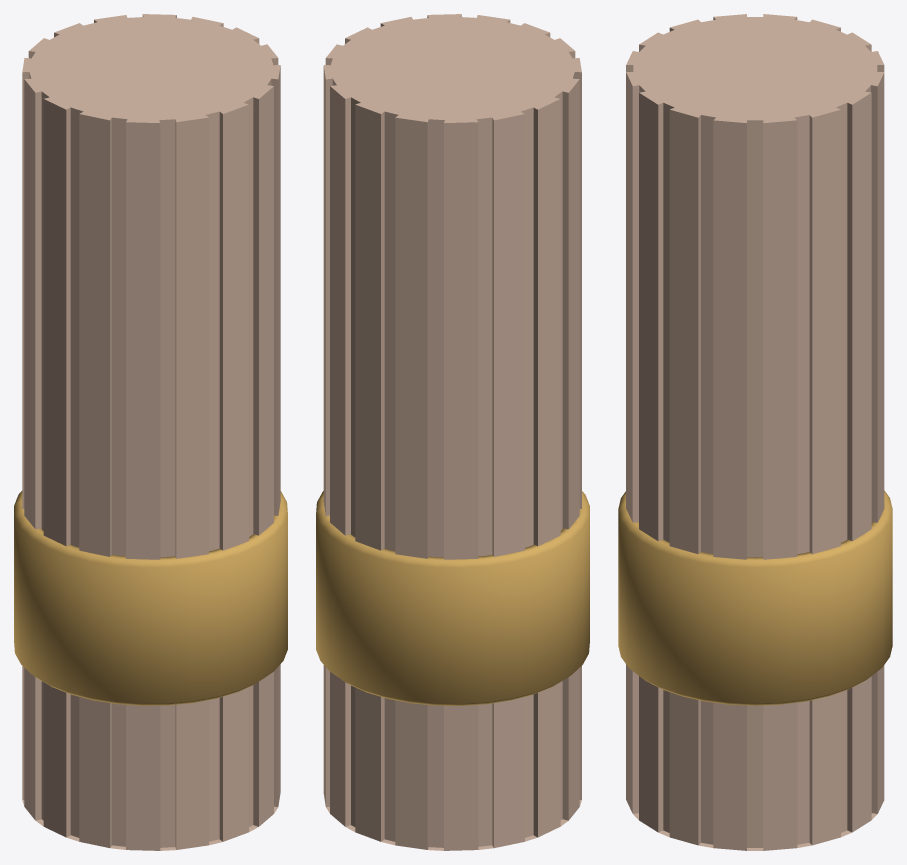
File: Pillar.fbx
The picture shows the model from 3 angles, left to right: view 1: azimuth 30°, elevation 25°; view 2: azimuth 150°, elevation 25°; view 3: azimuth 270°, elevation 25°; orthographic projection.
Parts seen in each view (by area): view 1: Pilar.004; view 2: Pilar.004; view 3: Pilar.004.
Boxes of the visible parts, x1,y1,x2,y2 form: Pilar.004: [14, 14, 287, 850]; Pilar.004: [316, 14, 589, 850]; Pilar.004: [618, 14, 892, 850].
Size of the model in its own units: 147 by 147 by 429.
